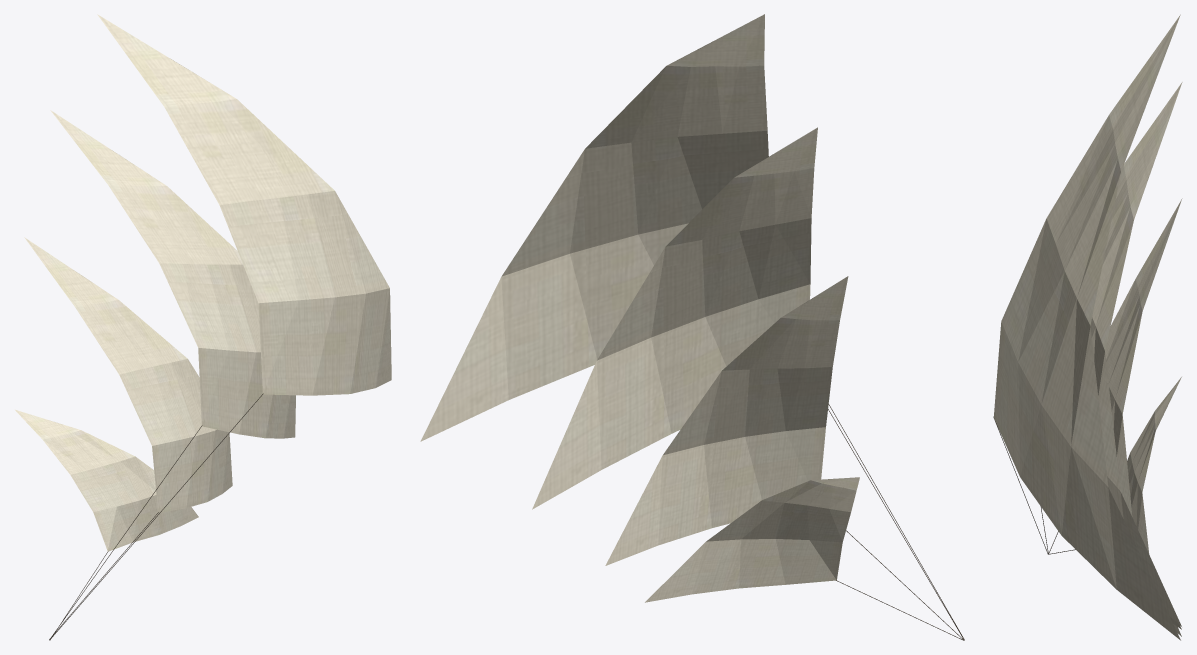
File: LineWarship80-cannonsKliver_LOD1.FBX
3 renders of one model, left to right at view 1: azimuth 30°, elevation 25°; view 2: azimuth 150°, elevation 25°; view 3: azimuth 270°, elevation 25°, orthographic. The views are drawn at different scales.
Visible parts, largest first — view 1: LineWarship80CannonsKliverLD1_001, LineWarship80CannonsKliverRopesLD0_003; view 2: LineWarship80CannonsKliverLD1_001, LineWarship80CannonsKliverRopesLD0_003; view 3: LineWarship80CannonsKliverLD1_001.
Boxes of the visible parts, box(x1,y1,x2,y2) form: LineWarship80CannonsKliverLD1_001: box(15, 14, 391, 551); LineWarship80CannonsKliverRopesLD0_003: box(49, 393, 263, 640); LineWarship80CannonsKliverLD1_001: box(420, 14, 859, 602); LineWarship80CannonsKliverRopesLD0_003: box(828, 404, 964, 640); LineWarship80CannonsKliverLD1_001: box(993, 14, 1182, 640).
Bounding box in the file's own units: 982 × 1289 × 370.
